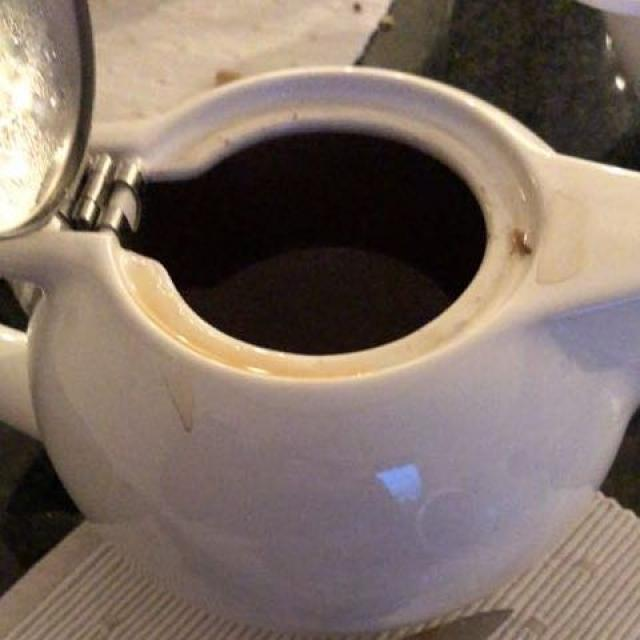tea: (127, 145, 486, 345)
